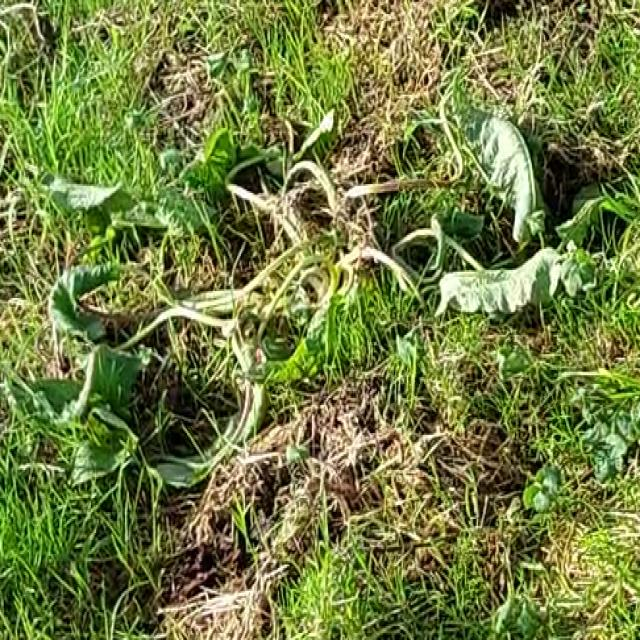organic waste: (33, 117, 590, 463)
